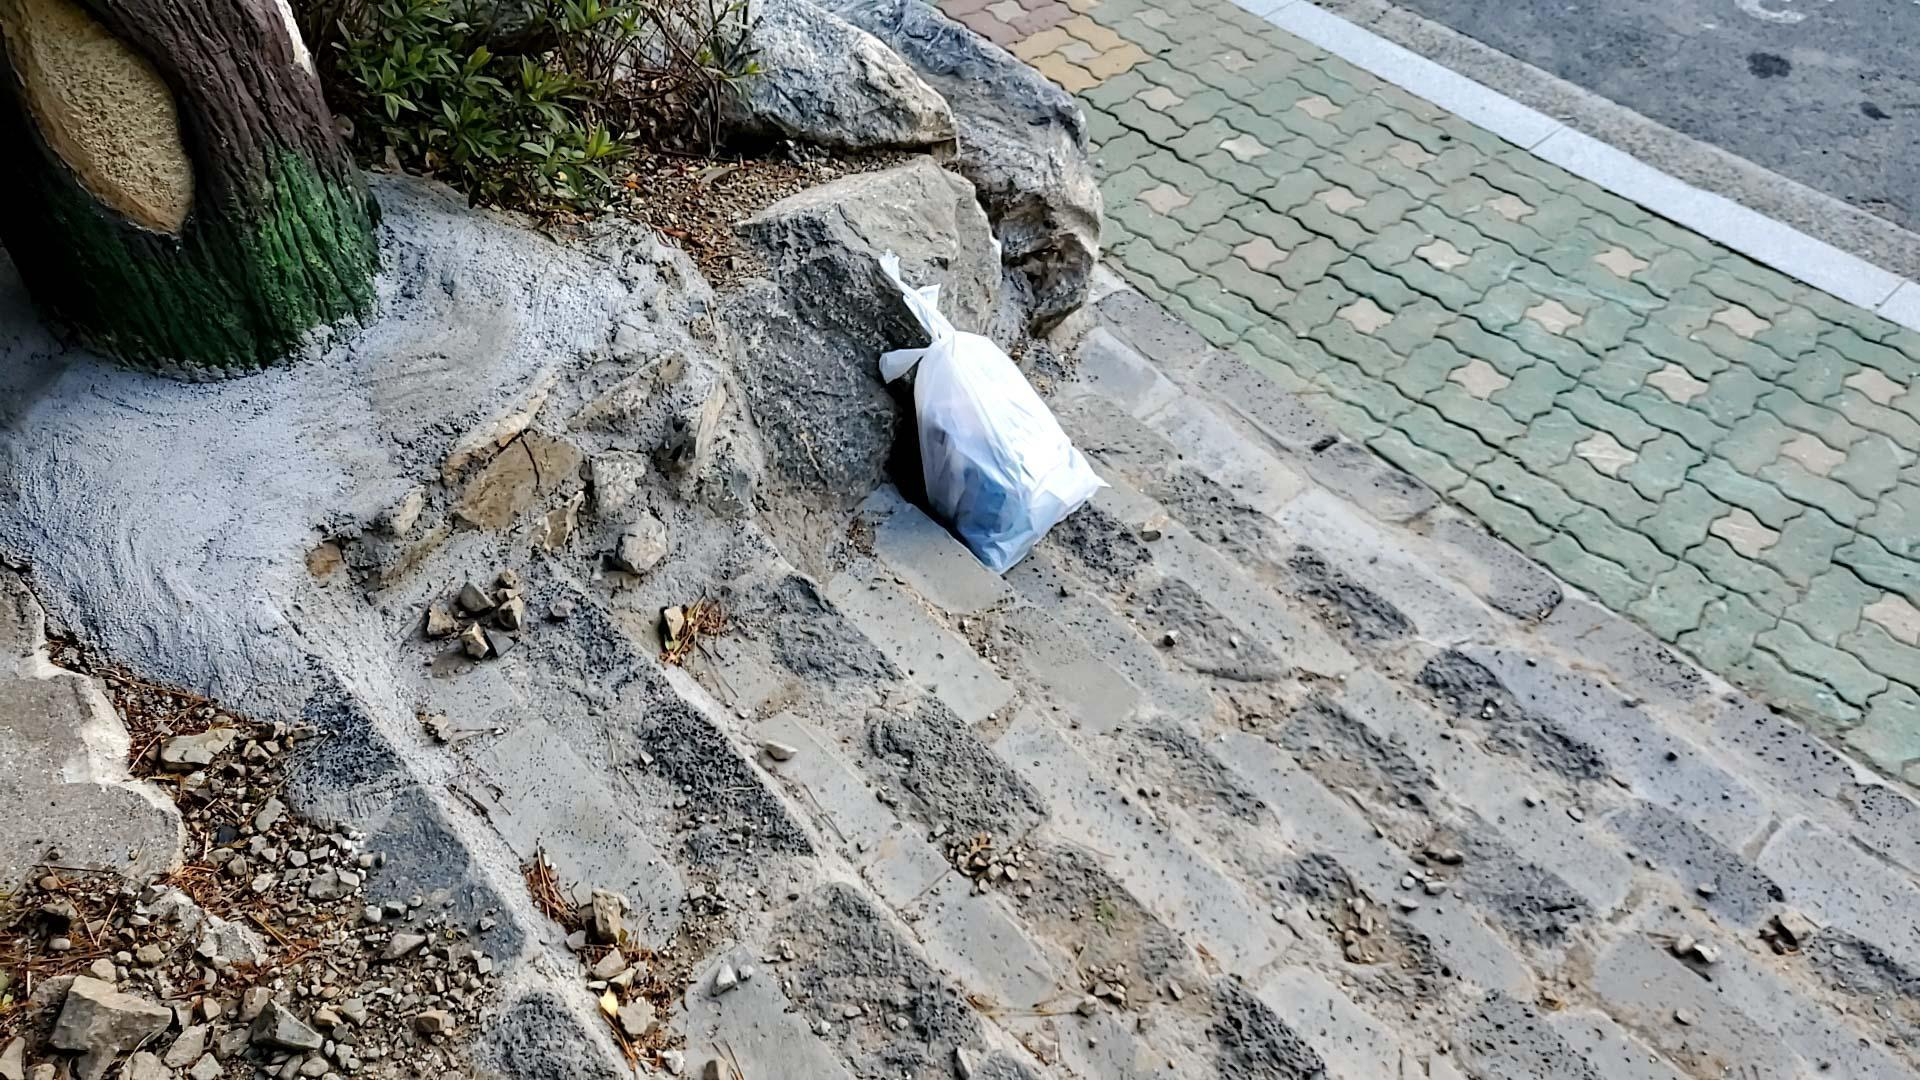white_bag: (858, 243, 1124, 582)
